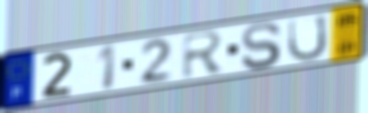1: (95, 42, 117, 94)
2: (137, 37, 174, 87), (41, 51, 74, 100)
R: (181, 29, 227, 81)
S: (239, 20, 284, 71)
U: (286, 12, 329, 63)
